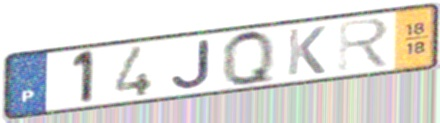1: (68, 48, 98, 106)
4: (111, 44, 155, 99)
J: (169, 37, 214, 90)
K: (285, 24, 329, 78)
Q: (218, 28, 279, 89)
R: (335, 16, 393, 74)
